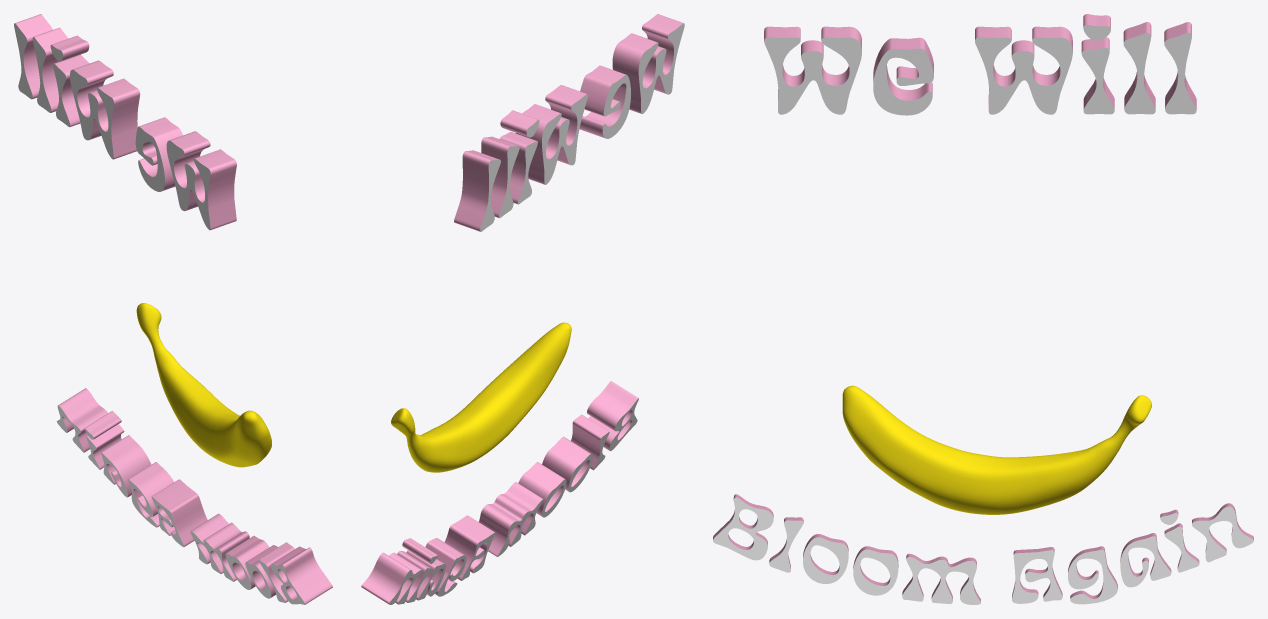
The model's file is SummerComingTextNew2.gltf.
3 renders of one model, left to right at view 1: azimuth 30°, elevation 25°; view 2: azimuth 150°, elevation 25°; view 3: azimuth 270°, elevation 25°, orthographic. The views are drawn at different scales.
Visible parts, largest first — view 1: We Will, Bloom Again 2, Banana; view 2: We Will, Bloom Again 2, Banana; view 3: We Will, Banana, Bloom Again 2.
Boxes of the visible parts, x1=… form: We Will: x1=14, y1=14, x2=236, y2=230; Bloom Again 2: x1=56, y1=388, x2=332, y2=604; Banana: x1=136, y1=303, x2=271, y2=467; We Will: x1=454, y1=14, x2=684, y2=231; Bloom Again 2: x1=361, y1=381, x2=638, y2=604; Banana: x1=391, y1=322, x2=571, y2=472; We Will: x1=764, y1=14, x2=1196, y2=115; Banana: x1=842, y1=385, x2=1151, y2=514; Bloom Again 2: x1=713, y1=494, x2=1253, y2=604.
Size of the model in its own units: 0.2131 by 0.7586 by 0.6846.
